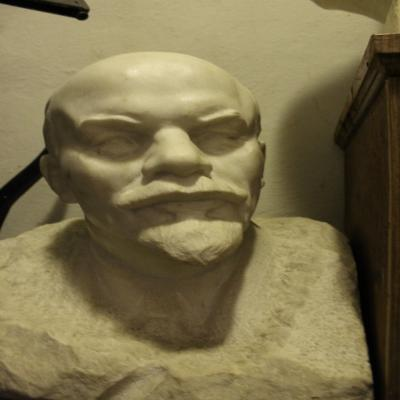sculpture: (0, 52, 373, 400)
